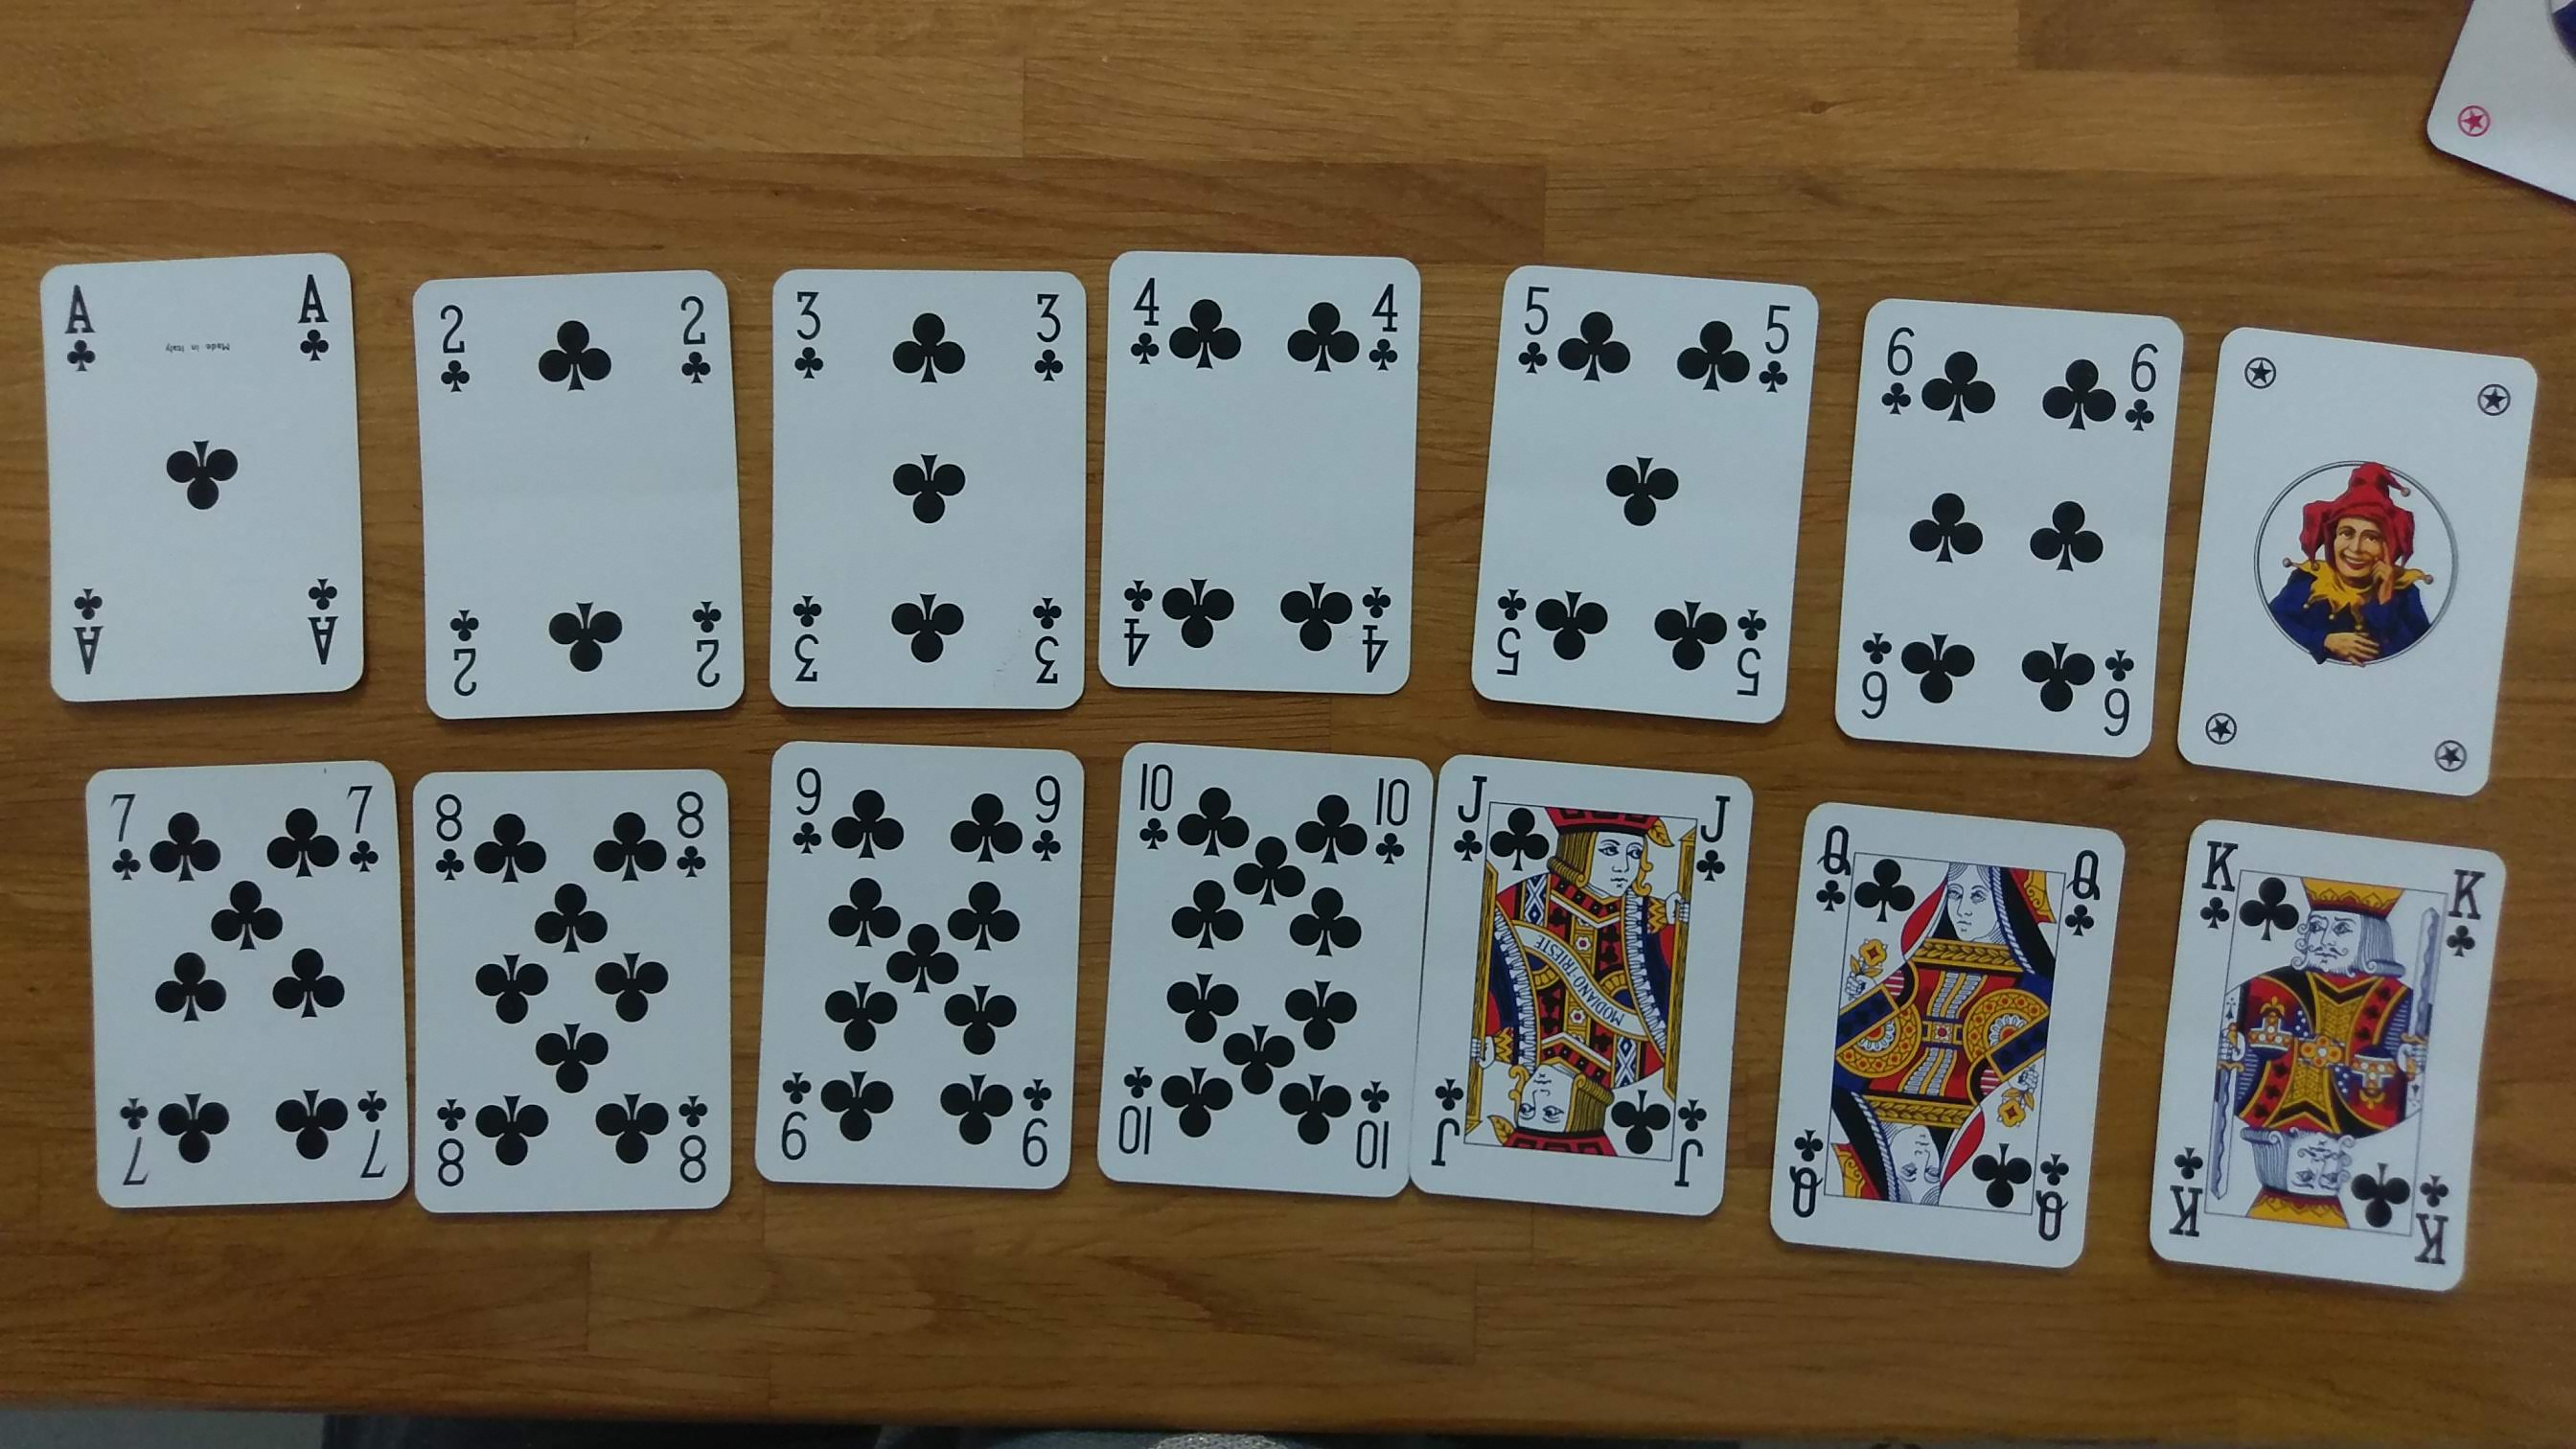10F: (1352, 1065, 1417, 1187), (1108, 1053, 1168, 1171), (1134, 747, 1191, 865), (1369, 763, 1426, 878)
1F: (269, 239, 343, 391), (280, 568, 364, 699), (57, 570, 134, 709), (51, 262, 124, 405)
2F: (407, 280, 485, 407), (432, 579, 499, 715), (672, 589, 743, 711), (665, 269, 722, 407)
3F: (777, 580, 839, 708), (777, 269, 835, 395), (1019, 265, 1074, 398), (1028, 580, 1077, 715)
4F: (1343, 257, 1408, 389), (1115, 267, 1185, 384), (1348, 559, 1403, 685), (1115, 559, 1168, 686)
5F: (1750, 278, 1812, 405), (1504, 274, 1569, 391), (1732, 602, 1782, 715), (1493, 575, 1532, 688)
6F: (1844, 625, 1905, 738), (2114, 320, 2169, 448), (2089, 633, 2146, 743), (1867, 295, 1916, 418)
7F: (103, 770, 159, 904), (352, 1079, 403, 1205), (331, 773, 386, 886), (110, 1079, 154, 1205)
8F: (426, 1079, 478, 1210), (665, 1086, 722, 1205), (672, 786, 727, 904), (426, 777, 471, 893)
9F: (764, 1054, 823, 1182), (1016, 1067, 1063, 1194), (791, 747, 833, 869), (1024, 763, 1067, 876)
JF: (1661, 1083, 1720, 1205), (1690, 782, 1744, 902), (1447, 770, 1493, 886), (1435, 1065, 1474, 1178)
KF: (2157, 1123, 2229, 1253), (2431, 853, 2498, 970), (2413, 1166, 2473, 1293), (2196, 821, 2247, 943)
M1: (2408, 697, 2496, 809), (2224, 327, 2289, 423), (2463, 364, 2525, 448), (2190, 692, 2250, 766)
M2: (2436, 73, 2509, 177)
QF: (1775, 1116, 1842, 1238), (1799, 793, 1854, 925), (2052, 832, 2107, 964), (2026, 1145, 2077, 1253)
